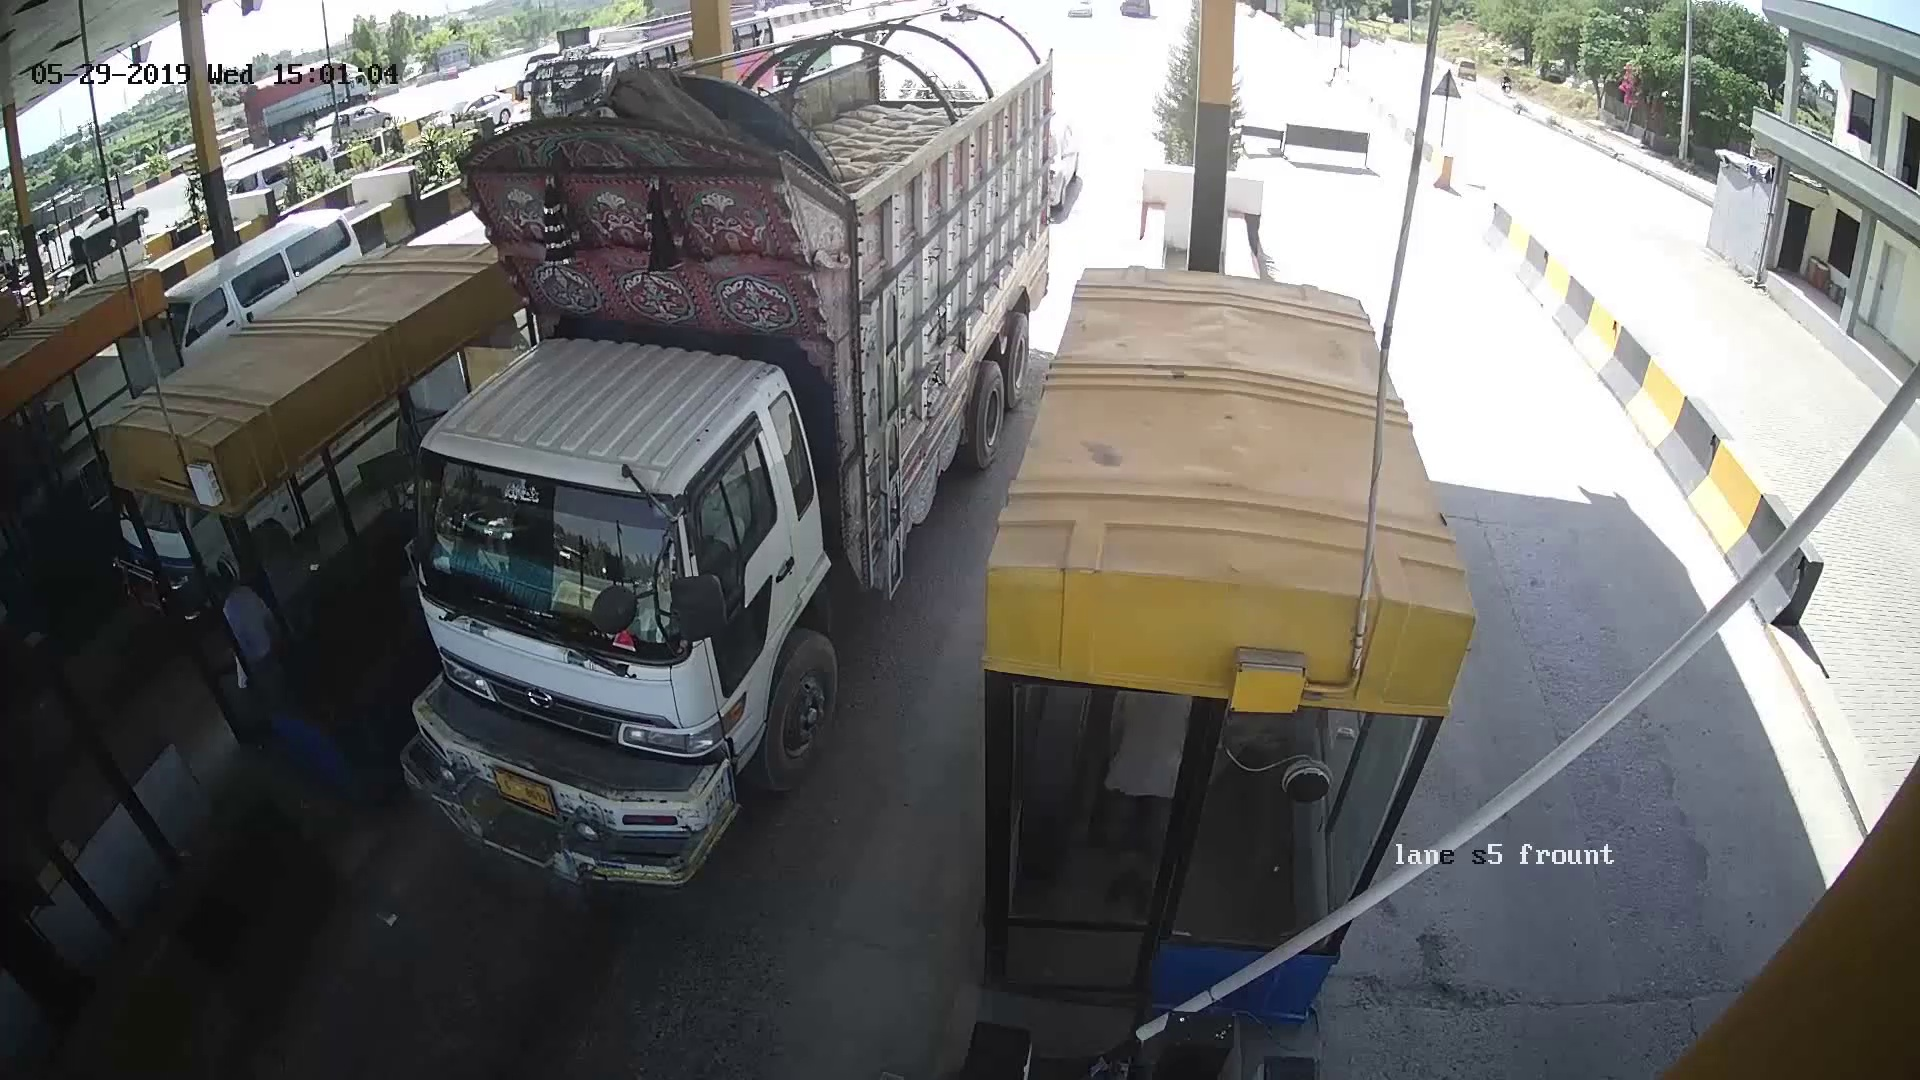truck: (404, 65, 993, 835)
